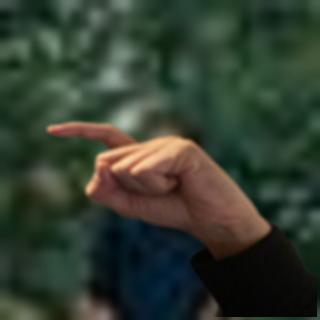WHY: (37, 111, 262, 252)
